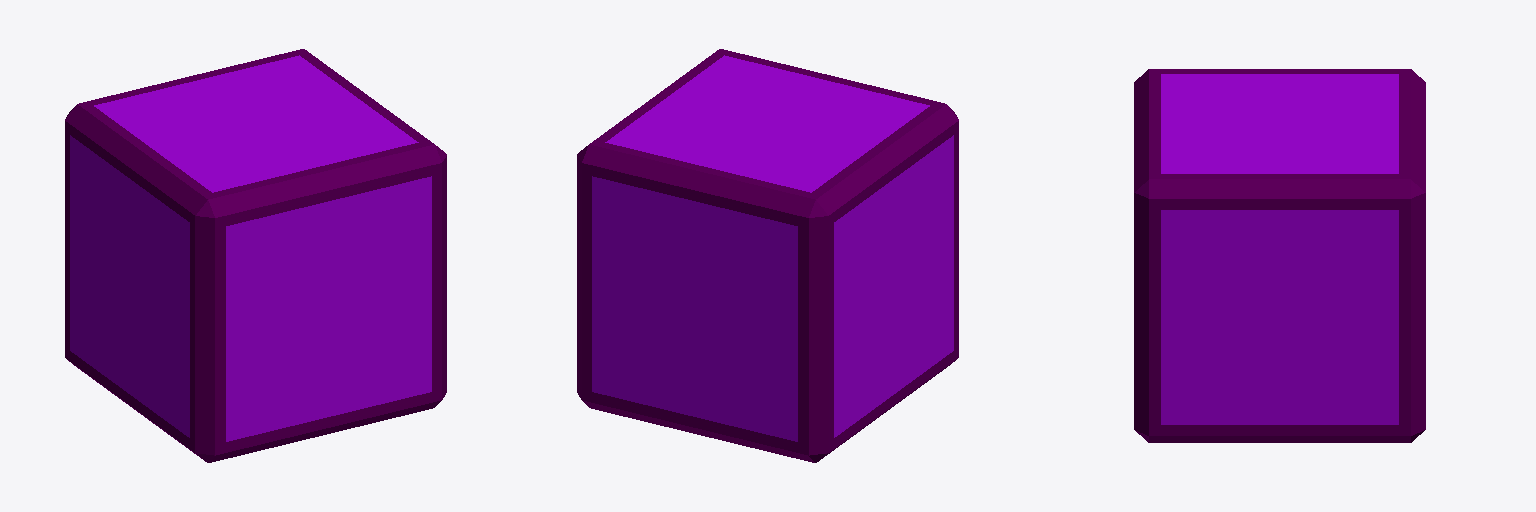
Rendered from fig4_cub_purple.obj.
3 views of the same model, side by side, from view 1: azimuth 30°, elevation 25°; view 2: azimuth 150°, elevation 25°; view 3: azimuth 270°, elevation 25° (orthographic).
Parts seen in each view (by area): view 1: Cube; view 2: Cube; view 3: Cube.
Boxes of the visible parts, x1=… form: Cube: x1=65, y1=49, x2=446, y2=462; Cube: x1=577, y1=49, x2=958, y2=462; Cube: x1=1134, y1=69, x2=1425, y2=442.
Bounding box in the file's own units: 2 × 2 × 2.